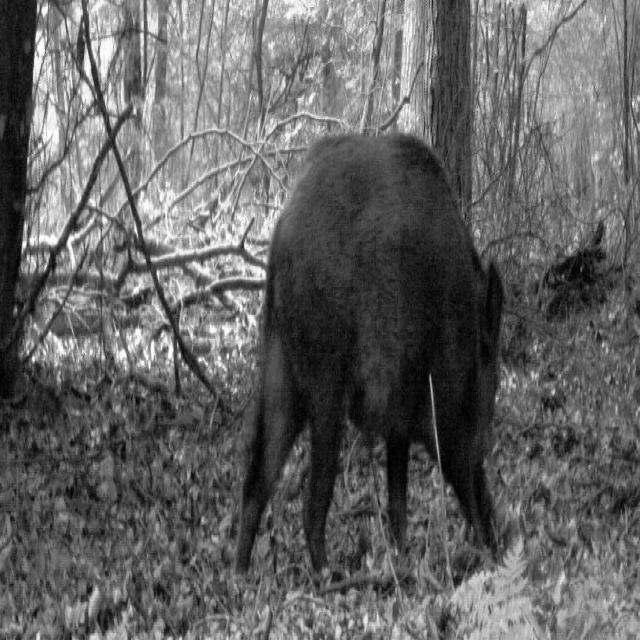WILD BOAR: (224, 58, 509, 559)
